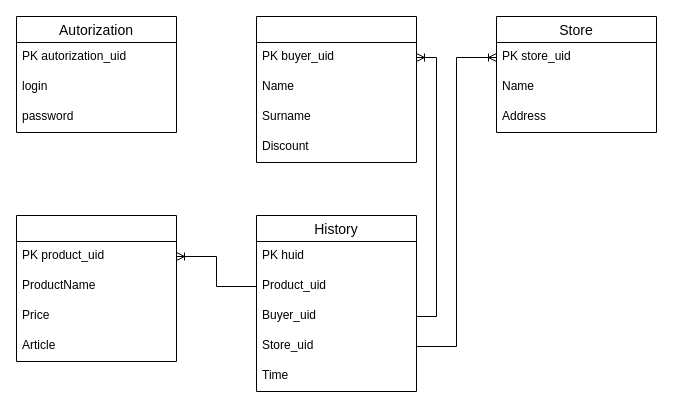
This 673x408 diagram has some shape labels left out. Each missing label, with the box of its shape:
Buyers: (256, 16, 416, 162)
Products: (16, 214, 176, 362)
